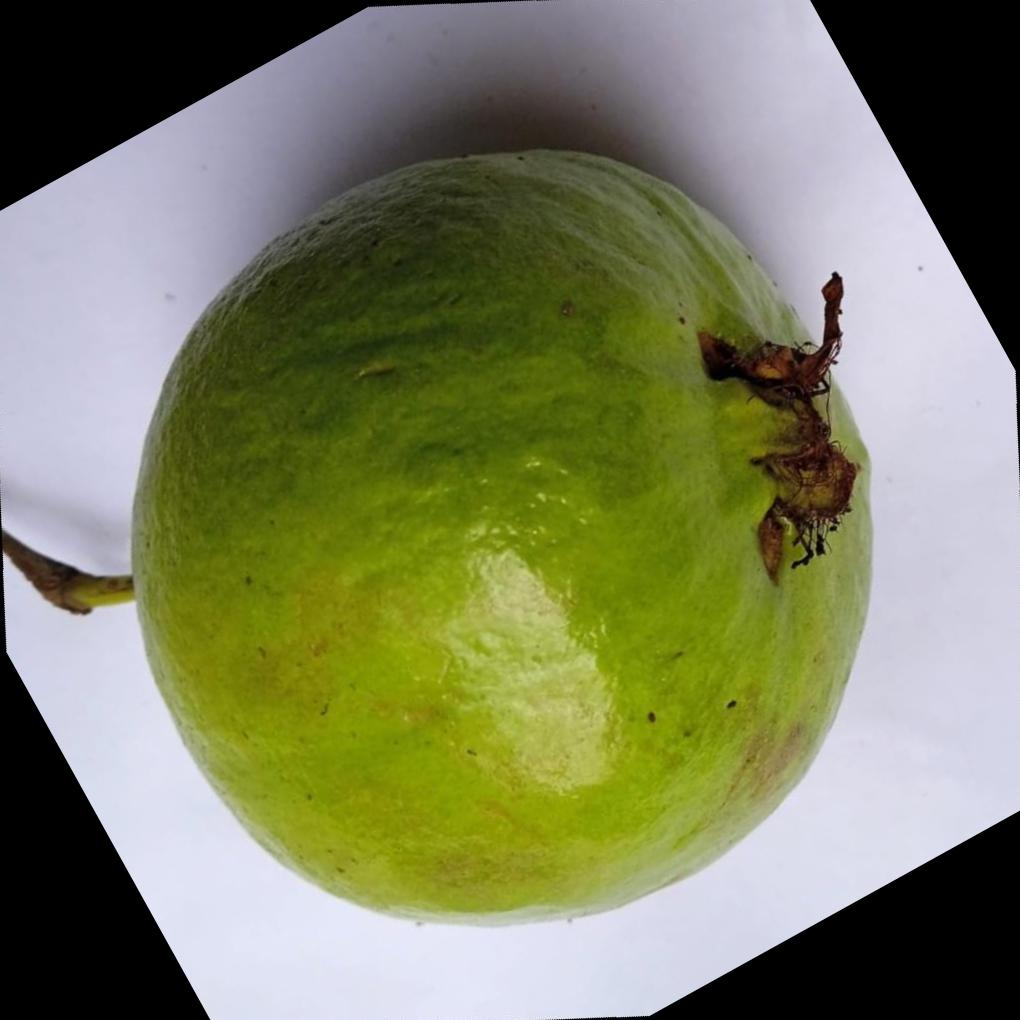FreshGuava: (124, 143, 873, 928)
